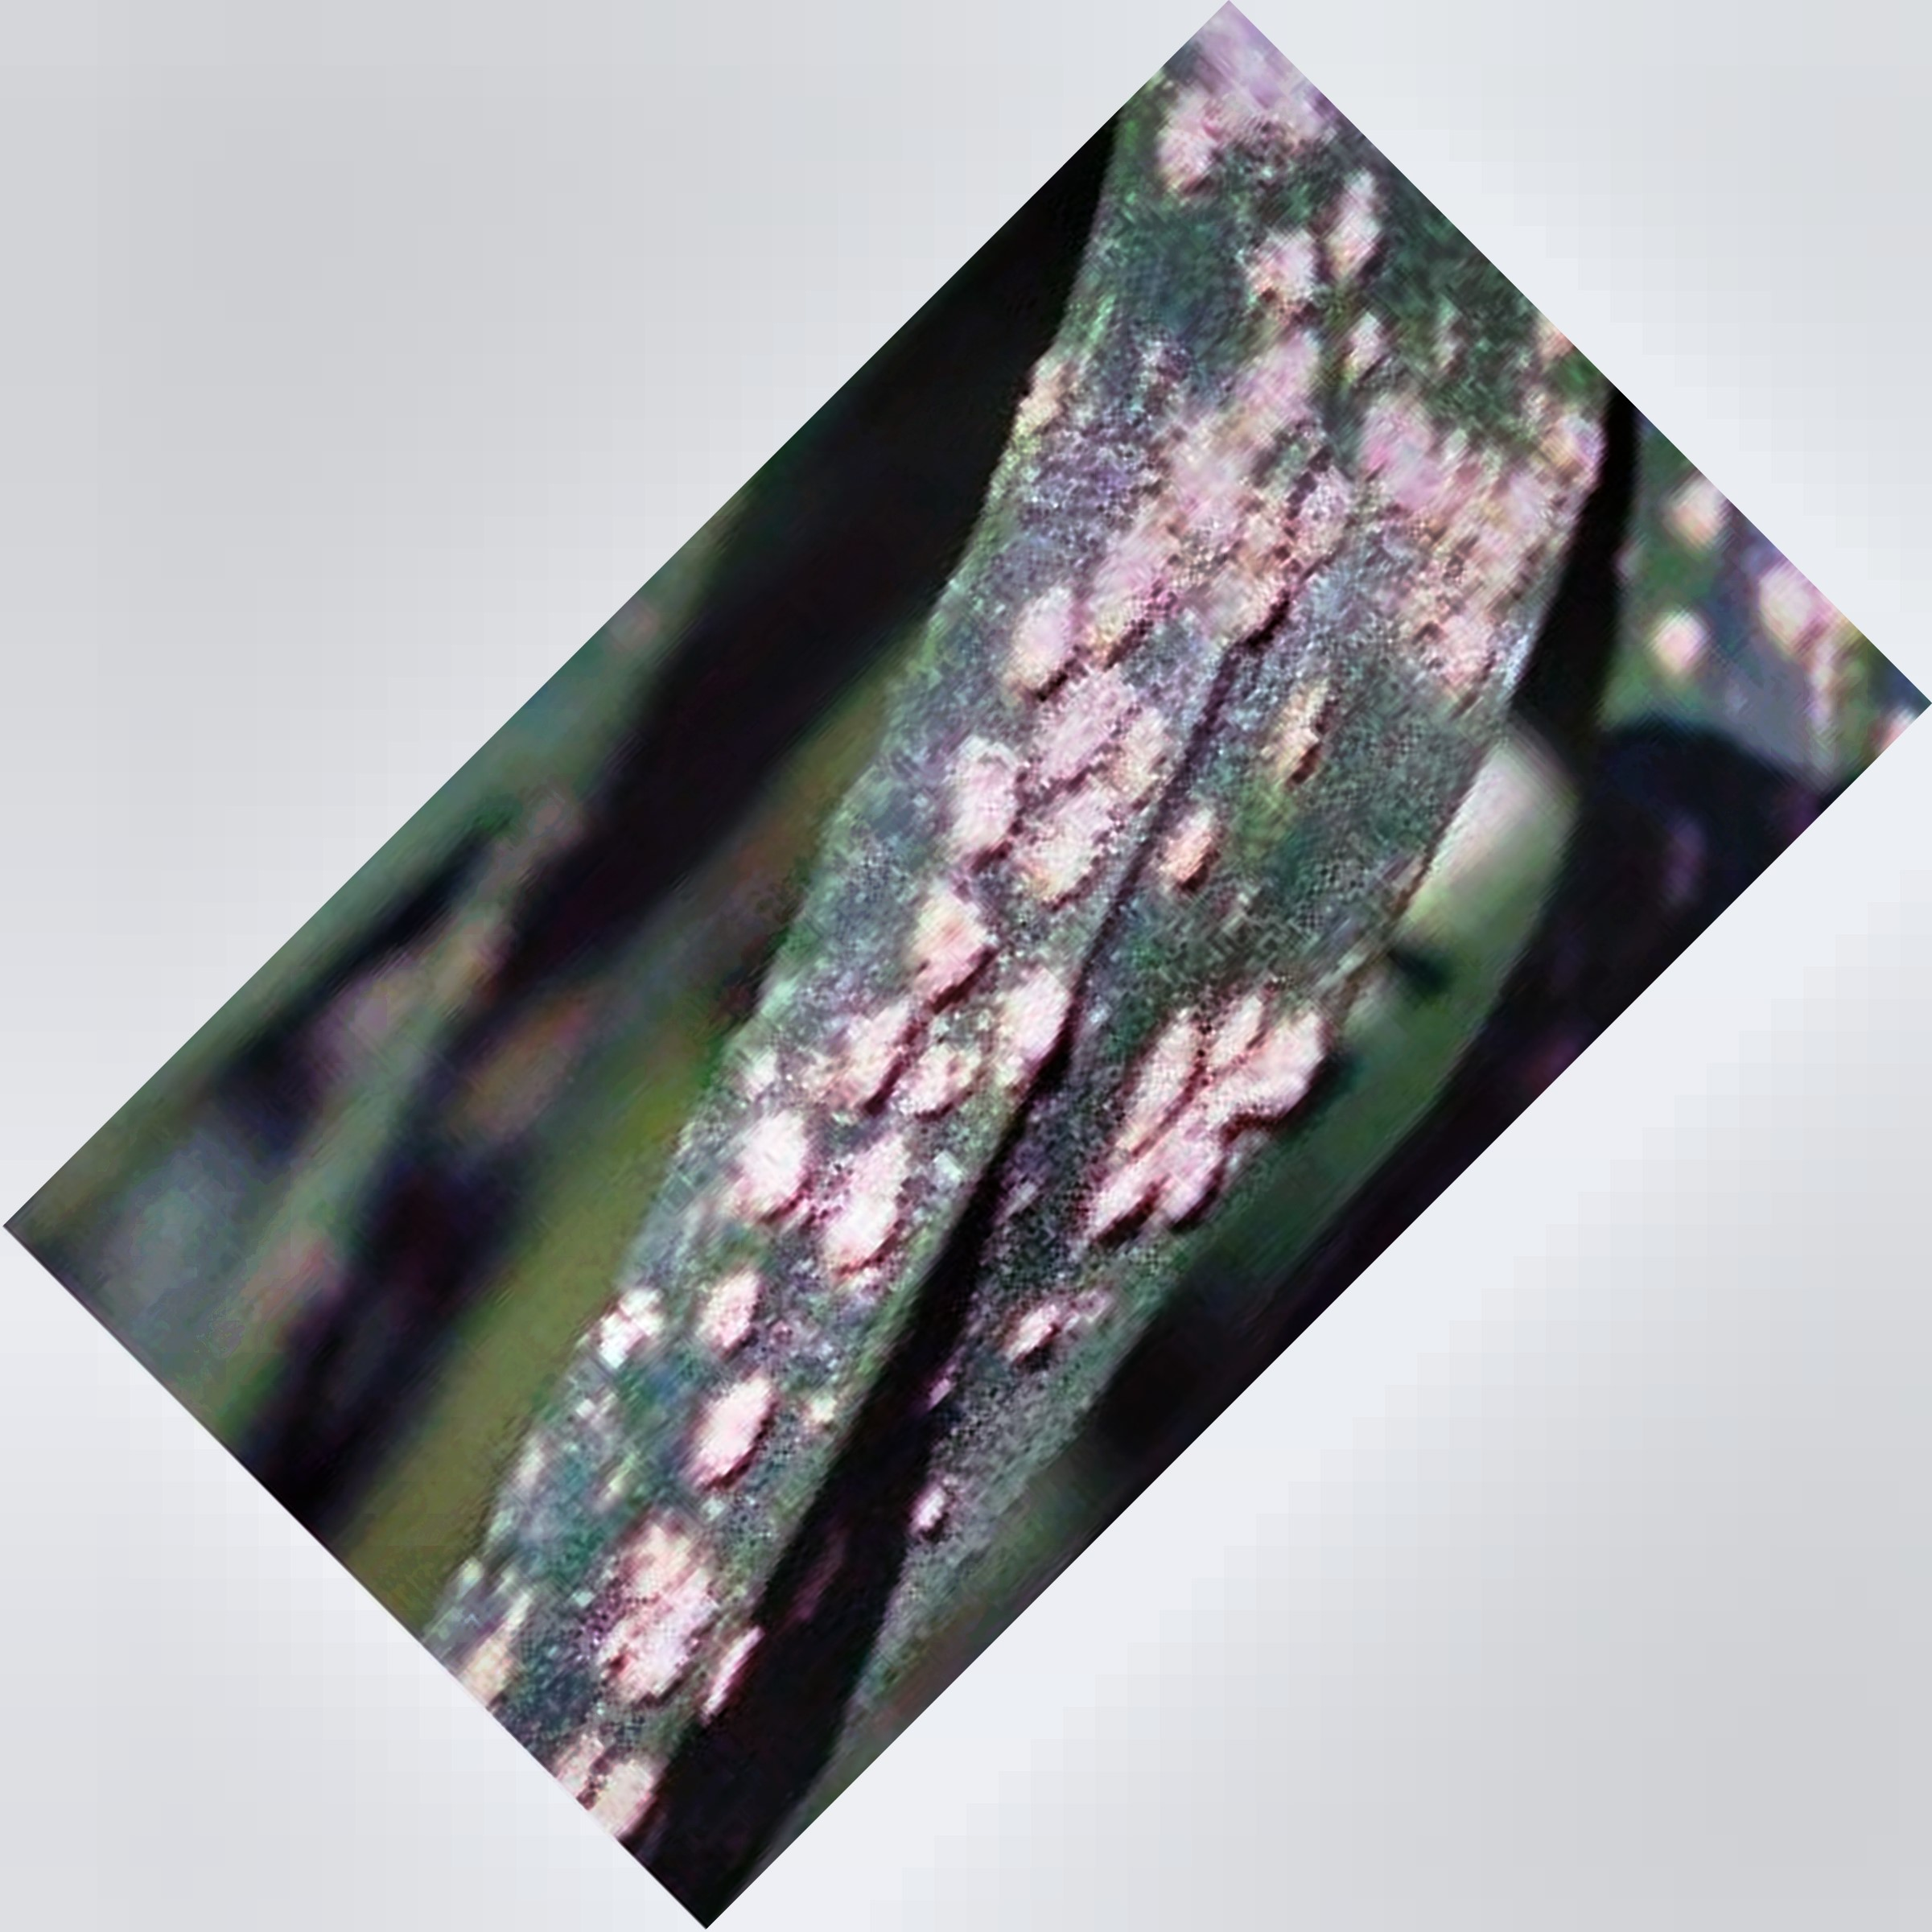Powdery Mildew: (573, 345, 1495, 1727)
